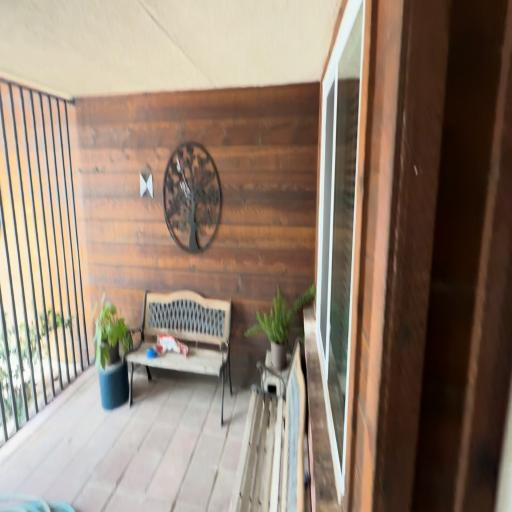target: (140, 173, 153, 197)
